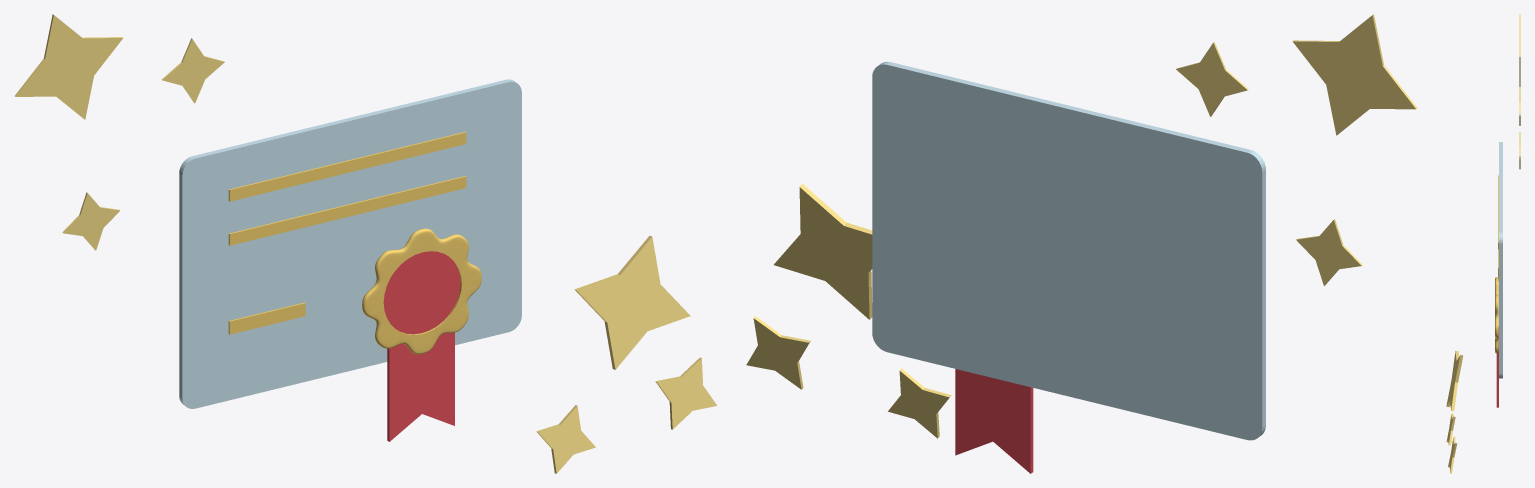
File: certificate-transformed.glb
The picture shows the model from 3 angles, left to right: view 1: azimuth 30°, elevation 25°; view 2: azimuth 150°, elevation 25°; view 3: azimuth 270°, elevation 25°; orthographic projection. The views are drawn at different scales.
Visible parts, largest first — view 1: Plane, Circle.001, Star.003, Plane.001, Star, Plane.002, Plane.003, Star.004, Star.005, Star.001, Star.002, Plane.004; view 2: Plane, Star.003, Star, Plane.001, Star.004, Star.001, Star.005, Star.002; view 3: Plane, Star.003, Circle.001, Plane.001, Star.004, Star.005, Star.
Part boxes in pixels (box(x1,y1,x2,y2)): Plane: box(179, 79, 521, 408); Circle.001: box(362, 228, 481, 354); Star.003: box(574, 235, 690, 369); Plane.001: box(387, 332, 454, 441); Star: box(14, 14, 122, 119); Plane.002: box(228, 176, 466, 245); Plane.003: box(228, 131, 466, 201); Star.004: box(655, 357, 717, 429); Star.005: box(536, 405, 595, 473); Star.001: box(161, 38, 224, 103); Star.002: box(62, 192, 120, 250); Plane.004: box(228, 302, 305, 334); Plane: box(872, 61, 1265, 440); Star.003: box(774, 184, 872, 319); Star: box(1292, 14, 1417, 135); Plane.001: box(955, 369, 1033, 473); Star.004: box(746, 316, 810, 389); Star.001: box(1176, 42, 1248, 116); Star.005: box(888, 368, 951, 438); Star.002: box(1296, 219, 1362, 285); Plane: box(1499, 142, 1502, 378); Star.003: box(1446, 350, 1463, 411); Circle.001: box(1495, 277, 1498, 353); Plane.001: box(1496, 326, 1498, 407); Star.004: box(1448, 436, 1457, 473); Star.005: box(1446, 413, 1455, 445); Star: box(1519, 14, 1520, 86).
Size of the model in its own units: 4.4 by 3.41 by 0.7577.
